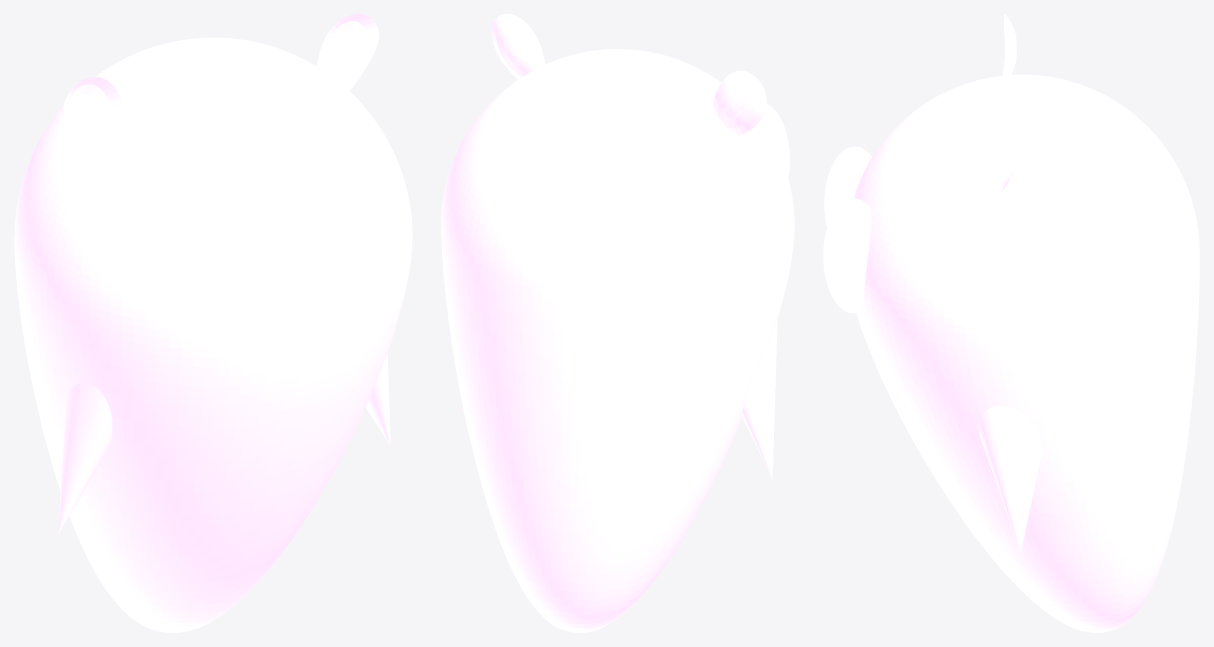
The model's file is Forma_Luz.glb.
3 renders of one model, left to right at view 1: azimuth 30°, elevation 25°; view 2: azimuth 150°, elevation 25°; view 3: azimuth 270°, elevation 25°, orthographic. The views are drawn at different scales.
Visible parts, largest first — view 1: Sphere.003, Icosphere, Cone; view 2: Sphere.003, Cone, Icosphere; view 3: Sphere.003, Icosphere, Cone.
Boxes of the visible parts, x1=… form: Sphere.003: x1=14, y1=14, x2=412, y2=632; Icosphere: x1=208, y1=206, x2=395, y2=364; Cone: x1=58, y1=353, x2=390, y2=534; Sphere.003: x1=441, y1=14, x2=794, y2=632; Cone: x1=462, y1=320, x2=777, y2=478; Icosphere: x1=760, y1=104, x2=789, y2=177; Sphere.003: x1=853, y1=14, x2=1199, y2=632; Icosphere: x1=823, y1=146, x2=872, y2=313; Cone: x1=978, y1=406, x2=1042, y2=552.
Size of the model in its own units: 1.54 by 2.61 by 1.61.
